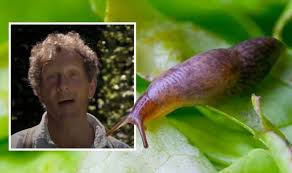slug: (119, 40, 283, 140)
